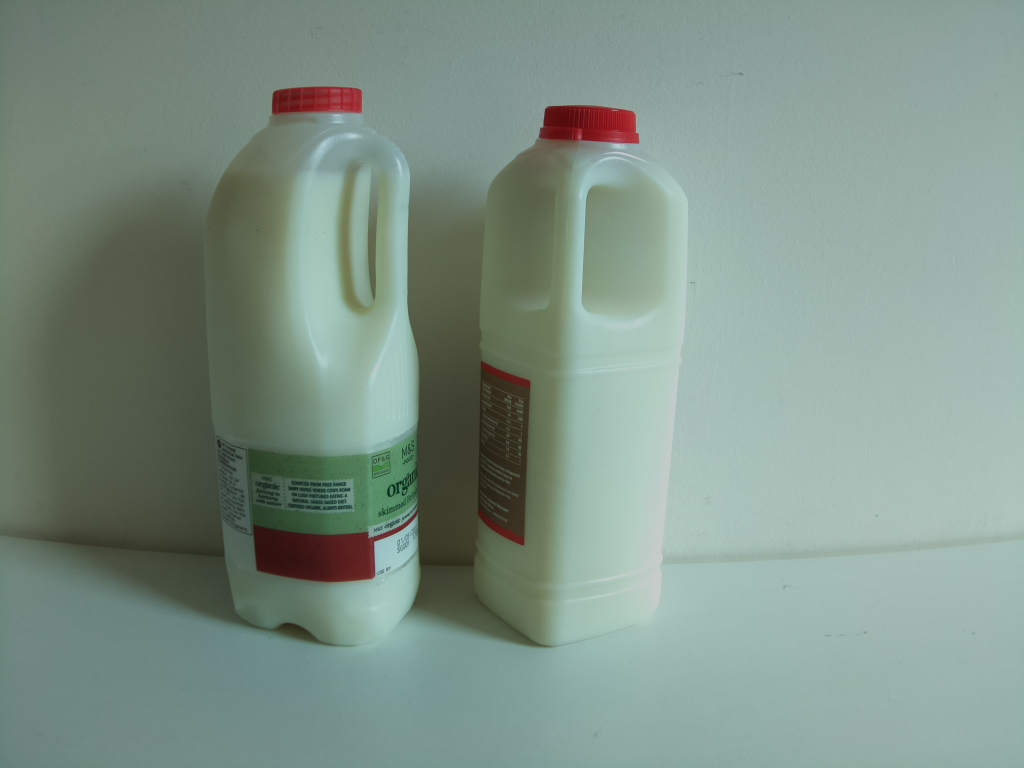milk: (203, 77, 440, 670), (468, 98, 698, 654)
